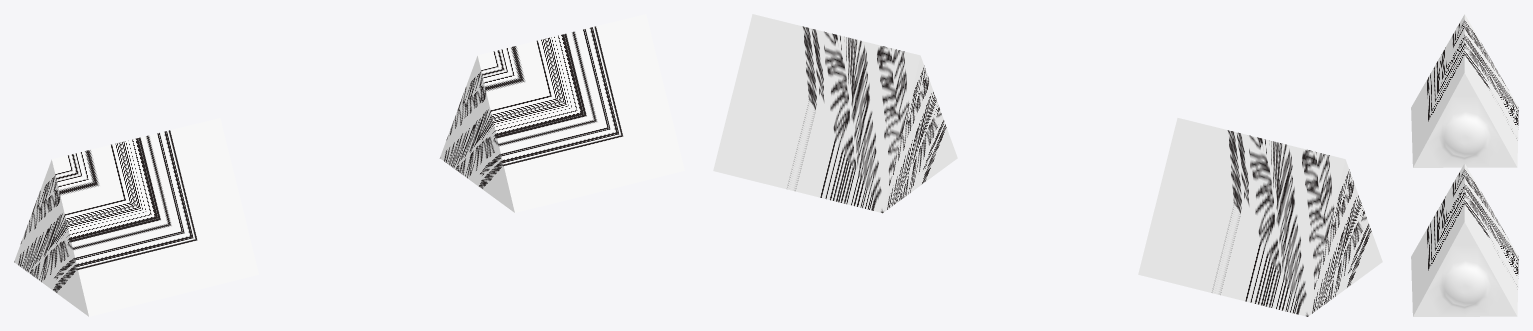
The picture shows the model from 3 angles, left to right: view 1: azimuth 30°, elevation 25°; view 2: azimuth 150°, elevation 25°; view 3: azimuth 270°, elevation 25°; orthographic projection. The views are drawn at different scales.
Parts seen in each view (by area): view 1: BASE.006, BASE.001; view 2: BASE.006, BASE.001; view 3: BASE.001, BASE.006.
Part boxes in pixels (x1,y1,x2,y2): BASE.006: [14, 118, 258, 316]; BASE.001: [440, 14, 684, 212]; BASE.006: [1138, 118, 1382, 316]; BASE.001: [713, 14, 957, 213]; BASE.001: [1411, 163, 1518, 316]; BASE.006: [1411, 14, 1518, 167].
Size of the model in its own units: 6.26 by 1.29 by 1.34.
Materials: 1 (1 with a texture image).
